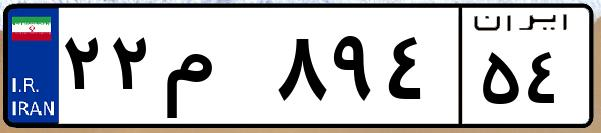2: (57, 26, 110, 100), (110, 28, 158, 98)
4: (385, 28, 445, 110), (525, 38, 570, 115)
5: (475, 38, 525, 113)
8: (270, 28, 330, 110)
9: (330, 28, 385, 110)
م: (158, 20, 270, 120)
